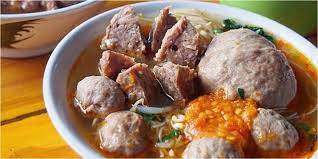bakso: (86, 12, 295, 158)
